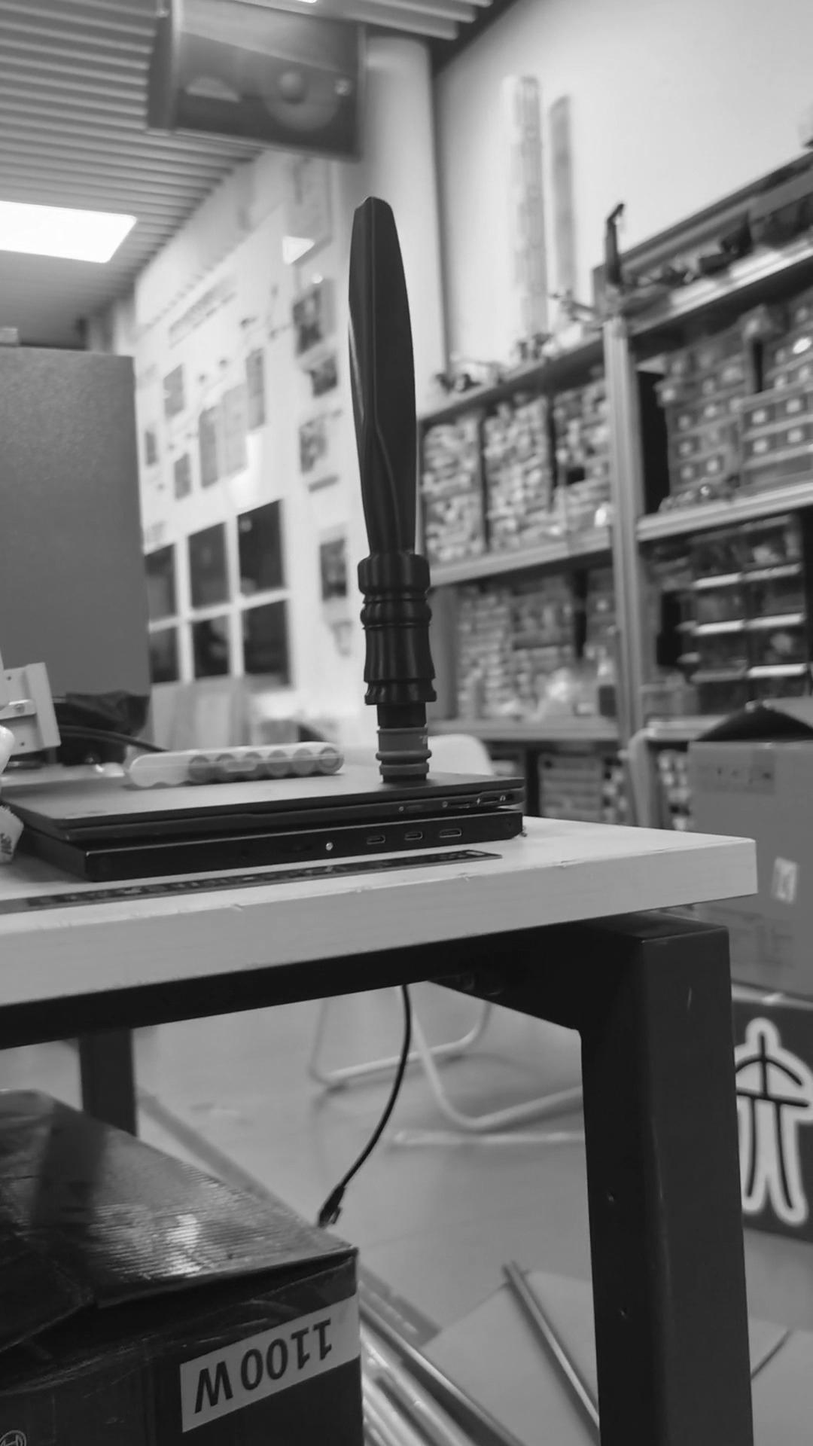base: (372, 725, 432, 785)
